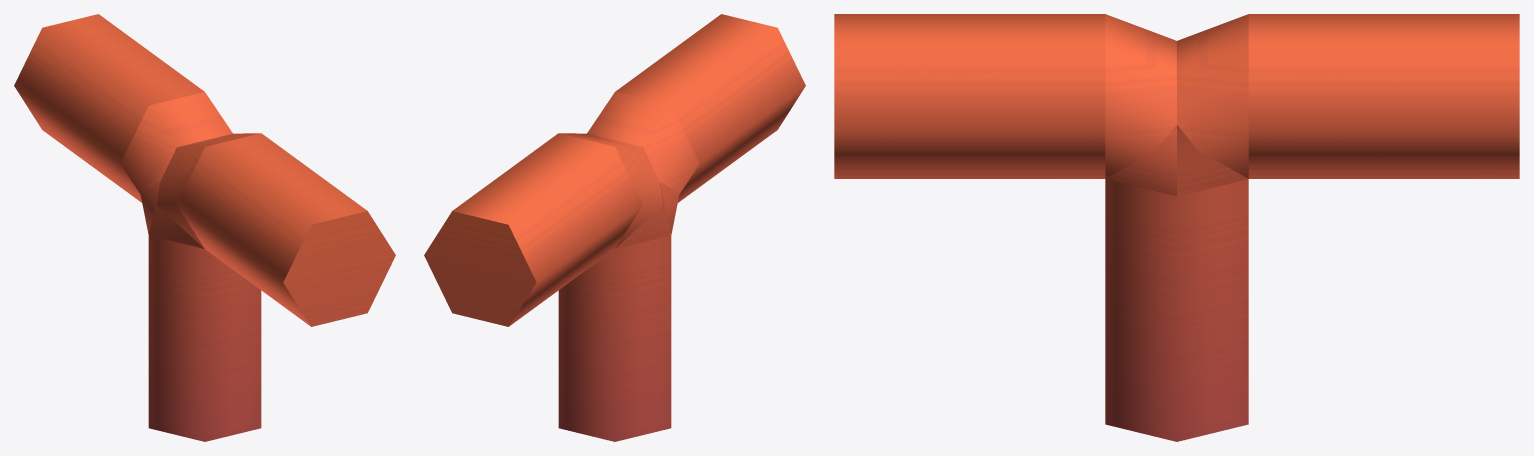
Rendered from pipe-split.glb.
3 renders of one model, left to right at view 1: azimuth 30°, elevation 25°; view 2: azimuth 150°, elevation 25°; view 3: azimuth 270°, elevation 25°, orthographic. The views are drawn at different scales.
Parts seen in each view (by area): view 1: pipe-split; view 2: pipe-split; view 3: pipe-split.
Boxes of the visible parts, left/top/right/bottom form: pipe-split: left=14, top=14, right=395, bottom=441; pipe-split: left=424, top=14, right=805, bottom=441; pipe-split: left=834, top=14, right=1519, bottom=441.
Size of the model in its own units: 0.2 by 0.5 by 0.8268.
Materials: 1 (1 with a texture image).
